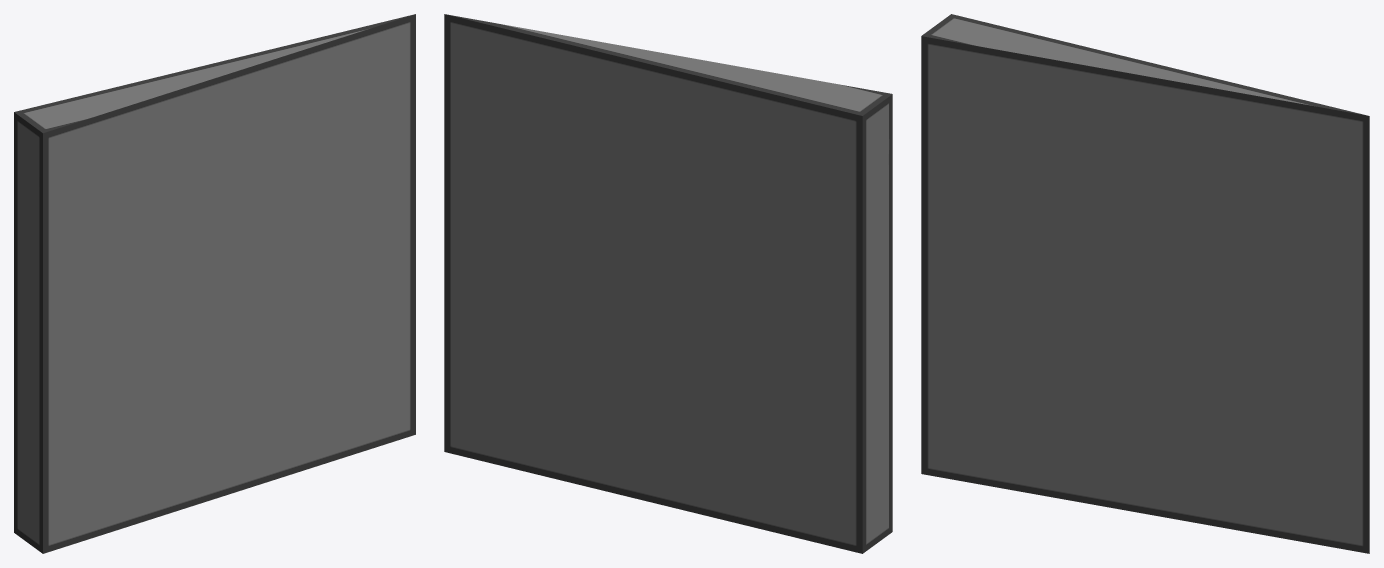
File: ramp_8x1.glb
The picture shows the model from 3 angles, left to right: view 1: azimuth 30°, elevation 25°; view 2: azimuth 150°, elevation 25°; view 3: azimuth 330°, elevation 25°; orthographic projection. The views are drawn at different scales.
Parts seen in each view (by area): view 1: Cube; view 2: Cube; view 3: Cube.
Part boxes in pixels (x1,y1,x2,y2): Cube: (14, 14, 415, 553); Cube: (444, 14, 892, 553); Cube: (921, 14, 1369, 553).
Size of the model in its own units: 8 by 8 by 1.
Materials: 1 (1 with a texture image).
